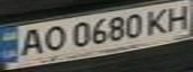0: (66, 19, 93, 48), (124, 11, 148, 39)
6: (90, 16, 112, 46)
8: (106, 14, 130, 43)
A: (12, 26, 48, 59)
H: (160, 1, 193, 31)
K: (142, 6, 175, 35)
O: (36, 24, 69, 53)
